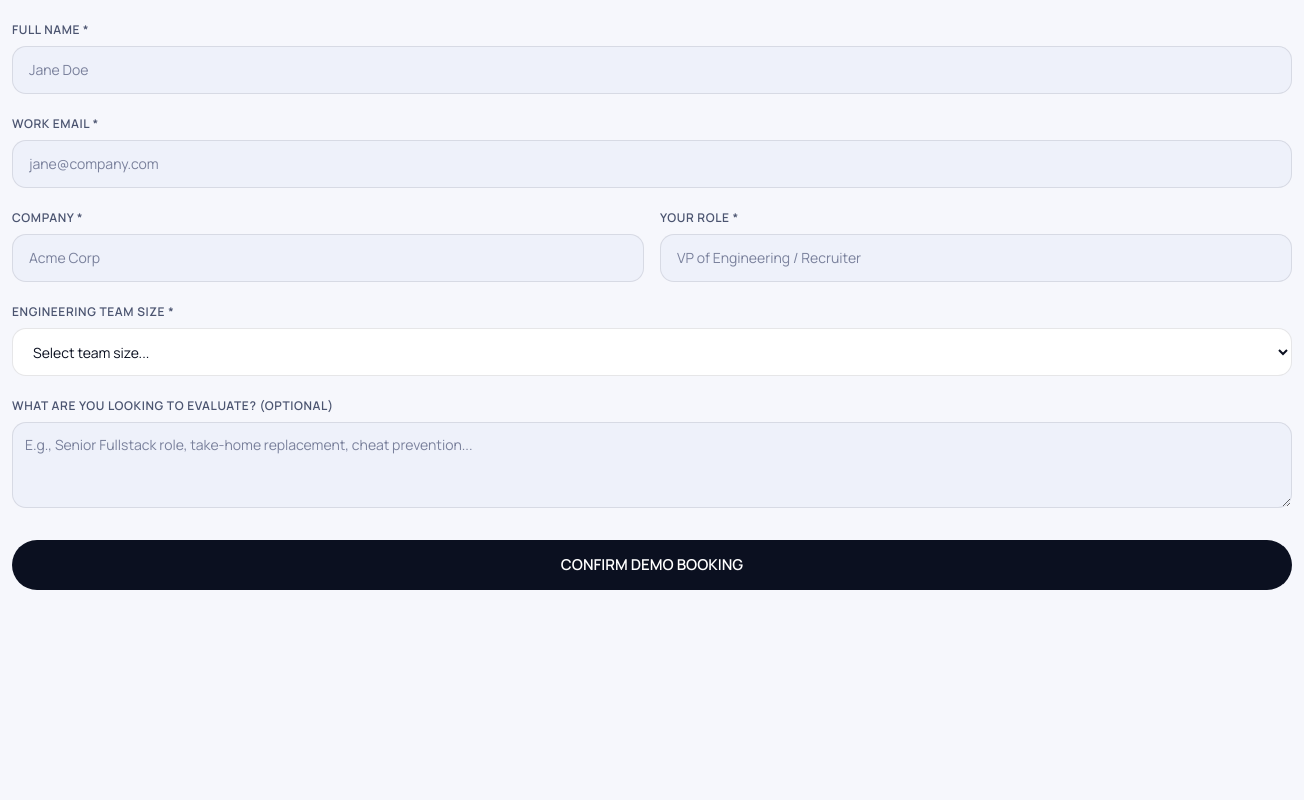
Test case: DetailsForm Component › displays soft warning when free-mail domain is provided
In the field labelled "Work Email *": (652, 164) [12,140,1292,188], type "user@gmail.com"
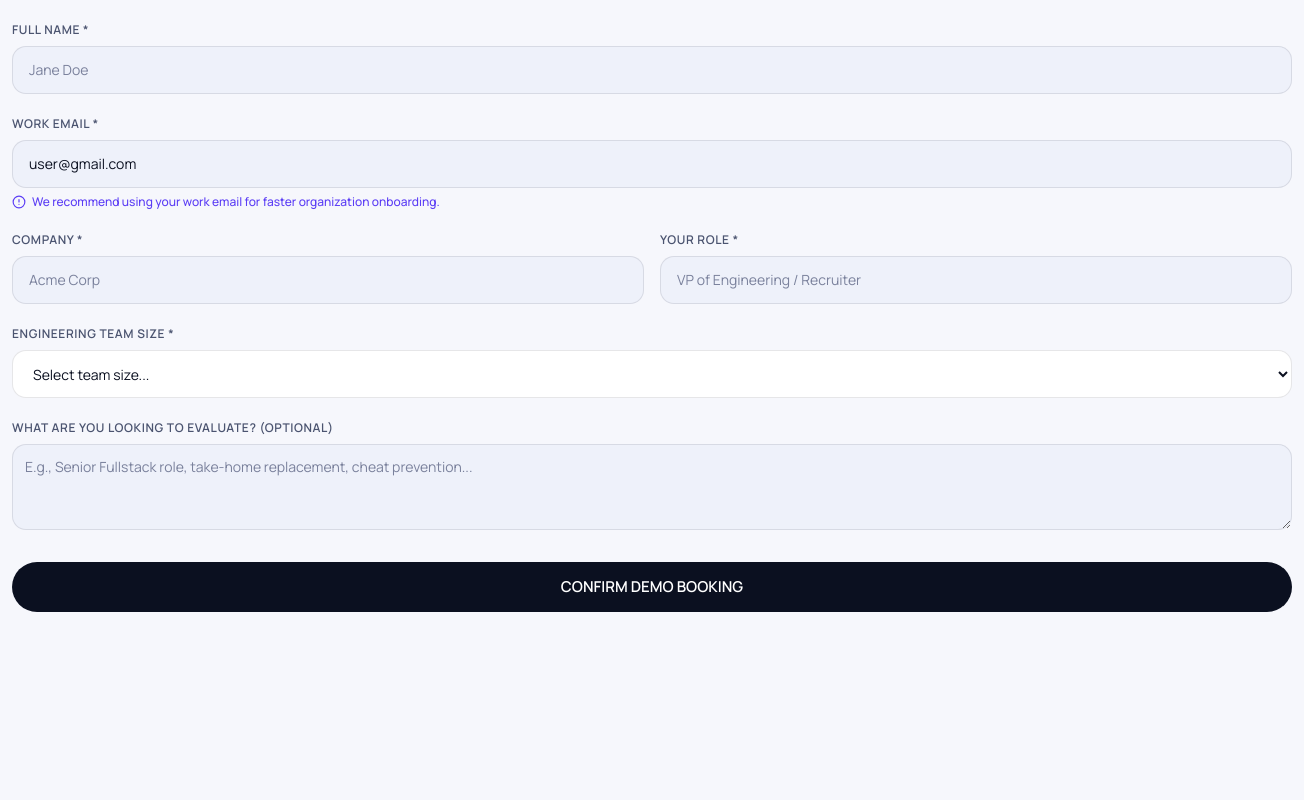
Expected: the text "We recommend using your work email for faster organization onboarding" is shown, [32,193,440,210]
